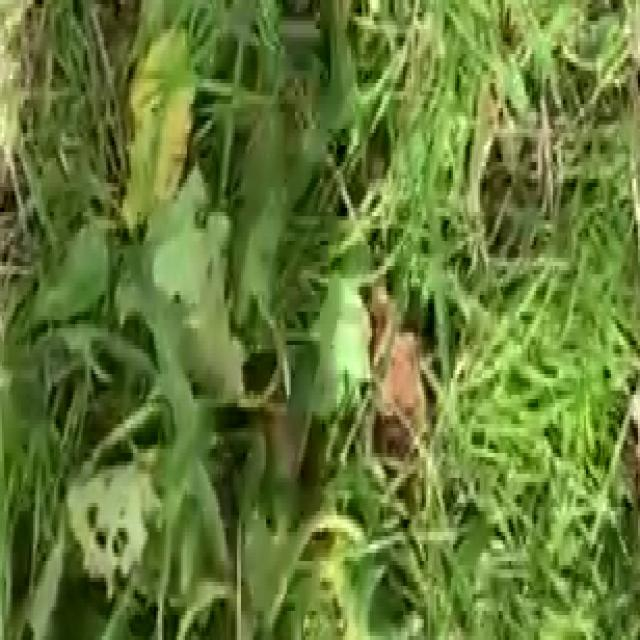organic waste: (79, 104, 355, 532)
